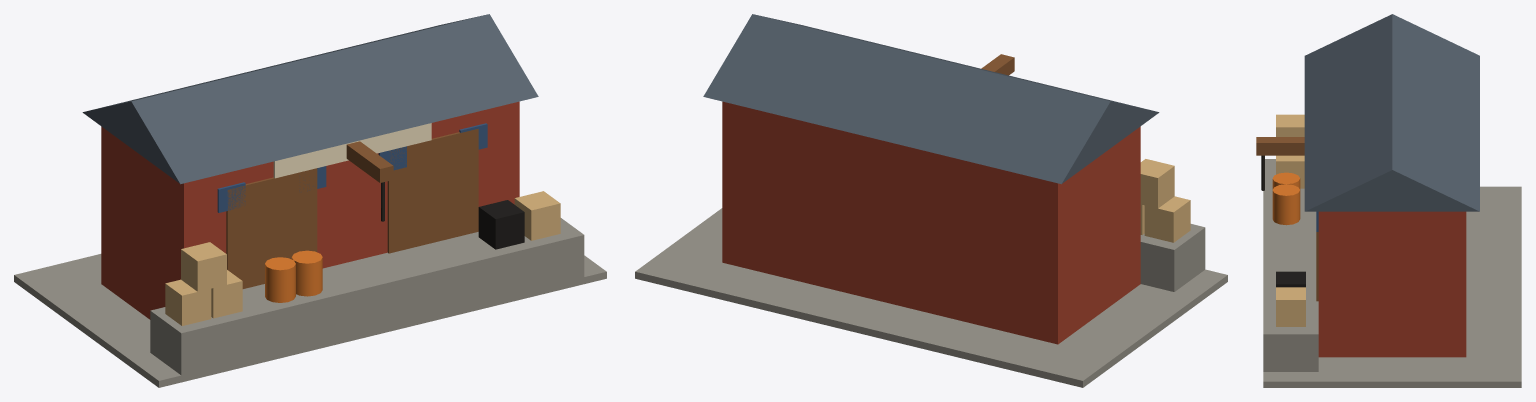
File: depot.glb
3 renders of one model, left to right at view 1: azimuth 30°, elevation 25°; view 2: azimuth 150°, elevation 25°; view 3: azimuth 270°, elevation 25°, orthographic. The views are drawn at different scales.
Visible parts, largest first — view 1: stone, slate, brick, darkWood, wood, orange, cream, coal, glass; view 2: brick, slate, stone, wood; view 3: slate, stone, brick, wood, orange, darkWood, coal.
Part boxes in pixels (bbox=[...]): stone: bbox=[14, 218, 606, 387]; slate: bbox=[82, 14, 538, 184]; brick: bbox=[101, 101, 519, 319]; darkWood: bbox=[226, 128, 478, 288]; wood: bbox=[165, 191, 560, 325]; orange: bbox=[265, 250, 322, 302]; cream: bbox=[273, 123, 431, 178]; coal: bbox=[478, 200, 524, 249]; glass: bbox=[217, 123, 487, 212]; brick: bbox=[722, 101, 1140, 344]; slate: bbox=[703, 14, 1159, 184]; stone: bbox=[635, 208, 1227, 387]; wood: bbox=[1140, 159, 1190, 242]; slate: bbox=[1304, 14, 1479, 211]; stone: bbox=[1263, 159, 1521, 387]; brick: bbox=[1318, 211, 1466, 357]; wood: bbox=[1276, 114, 1305, 326]; orange: bbox=[1272, 172, 1300, 225]; darkWood: bbox=[1256, 137, 1318, 301]; coal: bbox=[1276, 271, 1305, 287].
Bounding box in the file's own units: 200 × 95 × 115.
